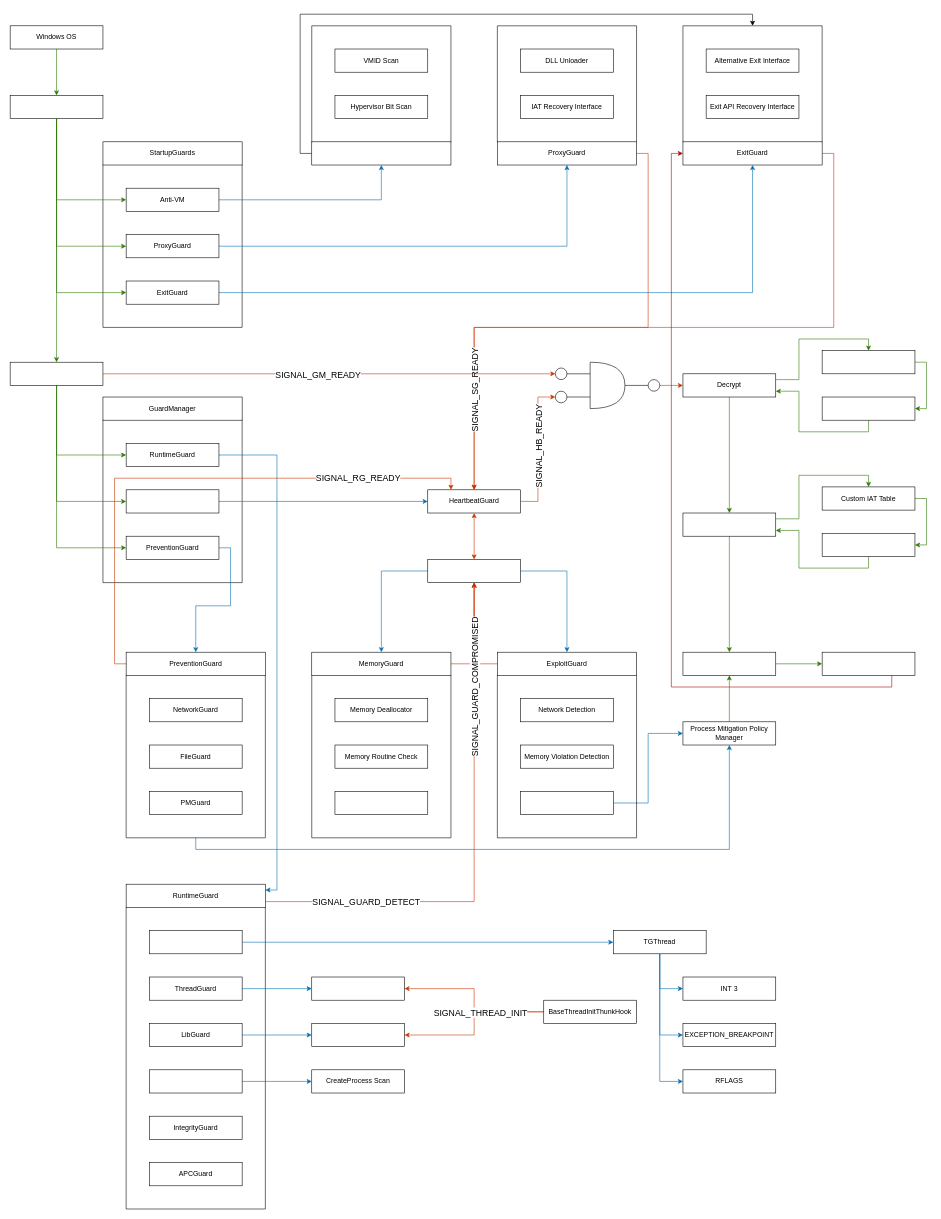
The diagram is 941 pixels wide and 1219 high, and some of its shapes have lost their labels. Here are the shapes that lost their labels. From the top down, the box of each, then its label:
(10, 95, 103, 119): TLS Callback
(311, 141, 451, 165): AntiVM
(10, 362, 103, 385): main!GuardManager
(822, 350, 915, 374): Polymorphic Key Decryption
(590, 362, 625, 409): AND
(822, 396, 915, 420): AES Decryption
(126, 489, 219, 513): EventGuard
(682, 512, 776, 536): Unpack
(822, 533, 915, 557): Custom Relocation Table
(427, 559, 521, 583): Responder
(682, 652, 776, 675): Prepare
(822, 652, 915, 675): Execute
(520, 791, 613, 815): Exploit Mitigation Policy Manager
(149, 930, 242, 954): DebugGuard
(311, 976, 405, 1000): NtCreateThreadEx Scan
(311, 1023, 405, 1047): LdrLoadDll Scan
(149, 1069, 242, 1093): ProcessGuard
